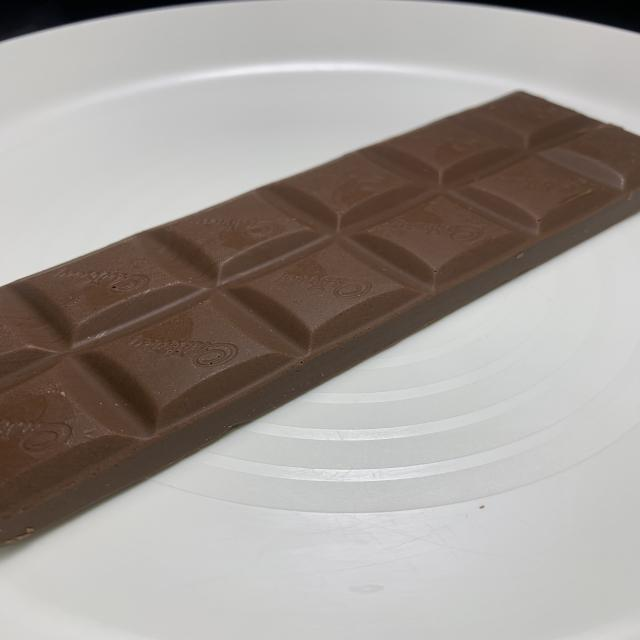chocolate: (0, 89, 640, 554)
